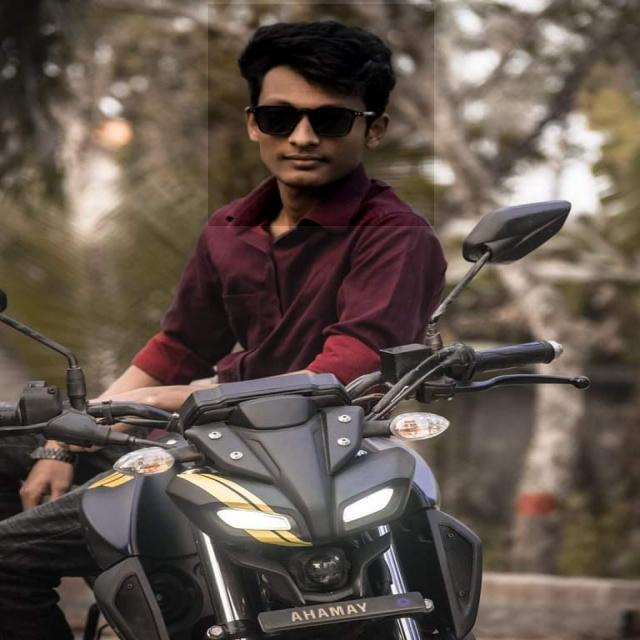No_Helmet: (208, 4, 434, 226)
